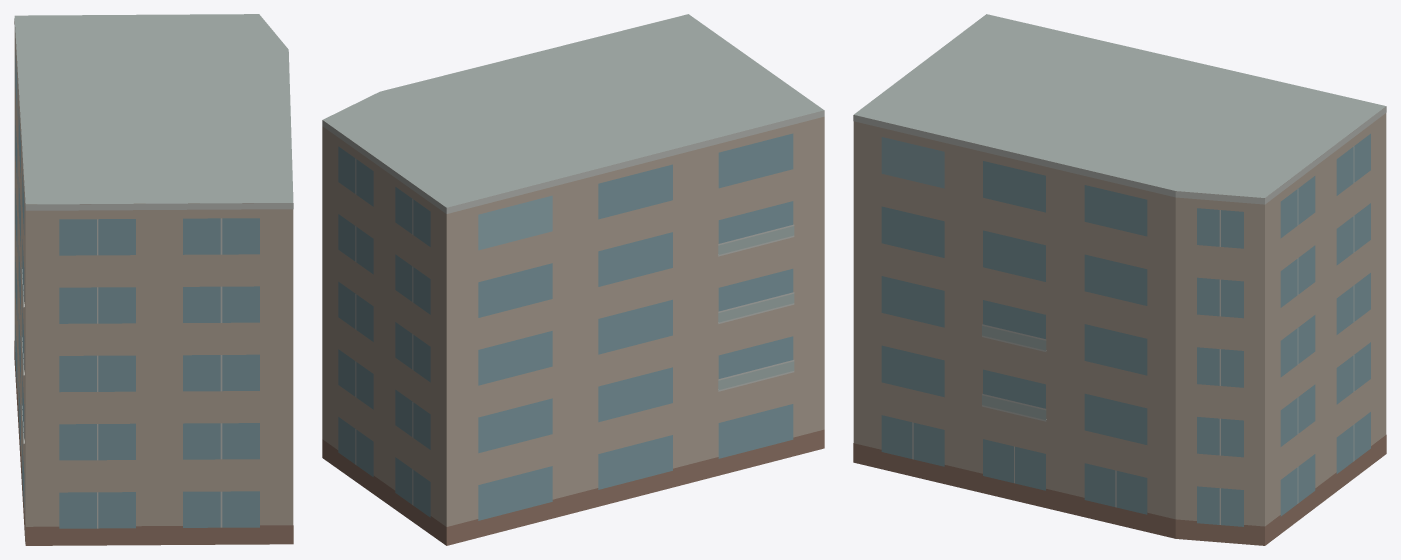
File: survey-upis-32594636.glb
The picture shows the model from 3 angles, left to right: view 1: azimuth 30°, elevation 25°; view 2: azimuth 150°, elevation 25°; view 3: azimuth 270°, elevation 25°; orthographic projection. The views are drawn at different scales.
Visible parts, largest first — view 1: survey-upis-32594636.tmp; view 2: survey-upis-32594636.tmp; view 3: survey-upis-32594636.tmp.
Boxes of the visible parts, x1,y1,x2,y2 form: survey-upis-32594636.tmp: [14, 14, 293, 545]; survey-upis-32594636.tmp: [322, 14, 824, 545]; survey-upis-32594636.tmp: [853, 14, 1386, 545].
Size of the model in its own units: 14.88 by 13.1 by 18.21.
